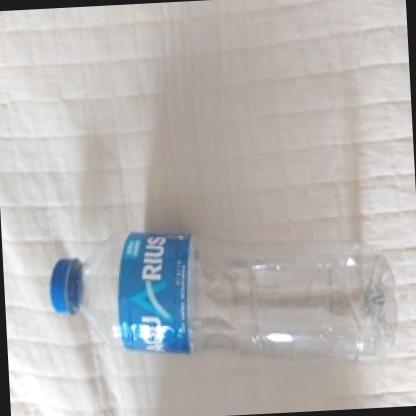plastic_bottles: (41, 212, 406, 387)
